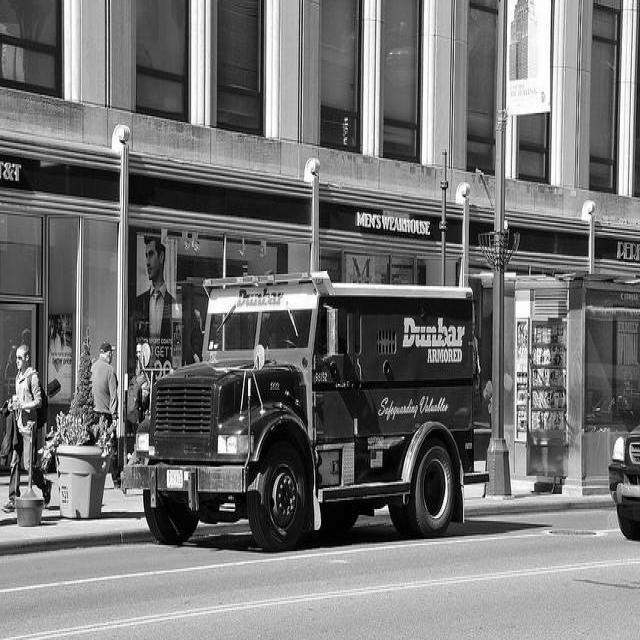vehicle: (119, 271, 489, 551), (609, 425, 639, 541)
